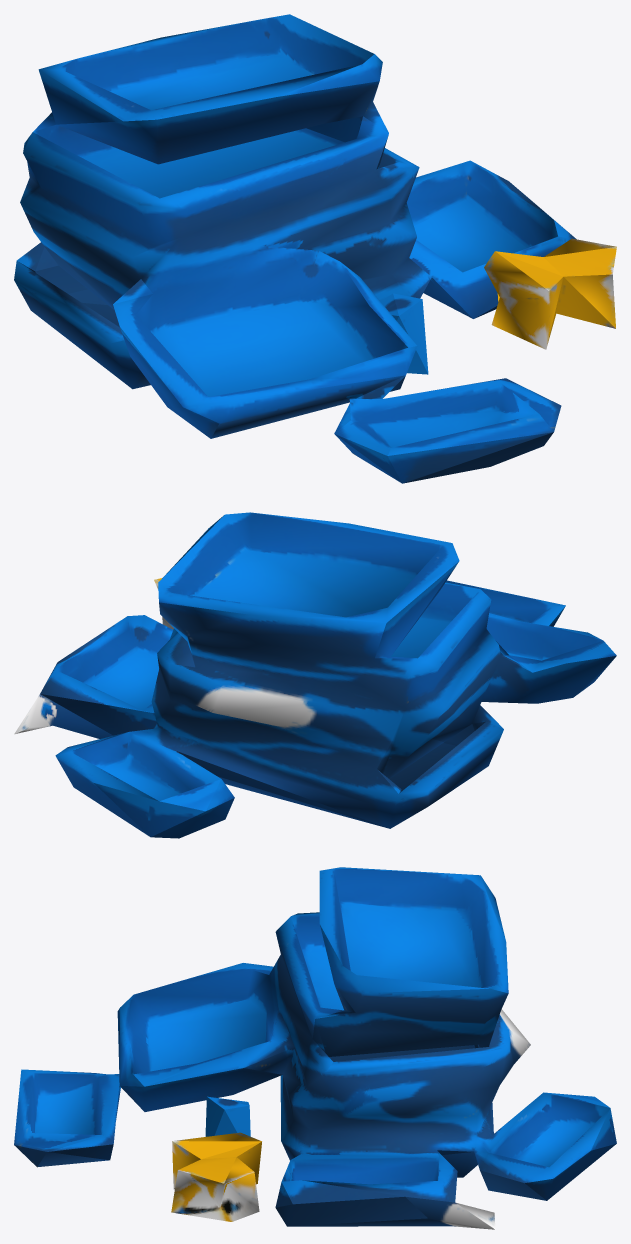
The model's file is lunch-tray-stack-broken.glb.
3 views of the same model, one above another, from view 1: azimuth 30°, elevation 25°; view 2: azimuth 150°, elevation 25°; view 3: azimuth 270°, elevation 25° (orthographic). The views are drawn at different scales.
Parts seen in each view (by area): view 1: geometry_0.001; view 2: geometry_0.001; view 3: geometry_0.001.
Part boxes in pixels (x1,y1,x2,y2): geometry_0.001: [14, 14, 616, 483]; geometry_0.001: [14, 512, 616, 838]; geometry_0.001: [14, 867, 616, 1229].
Size of the model in its own units: 0.7651 by 0.3919 by 0.9917.
1 material, 1 textured.
